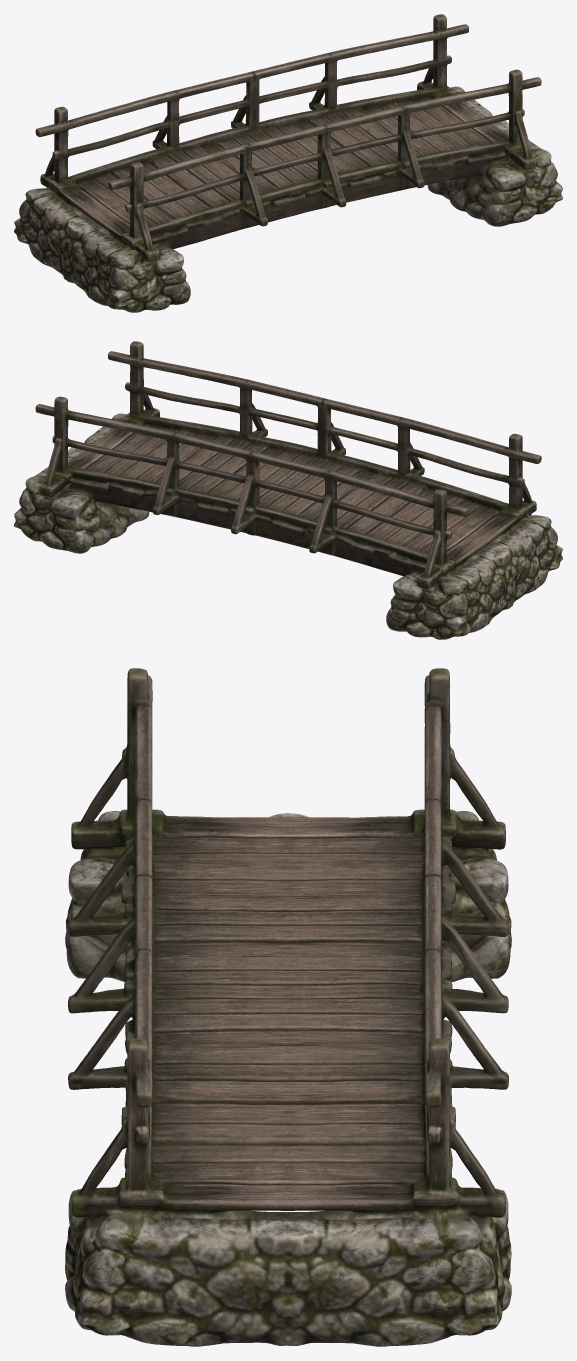
The model's file is prop01.glb.
3 views of the same model, one above another, from view 1: azimuth 30°, elevation 25°; view 2: azimuth 150°, elevation 25°; view 3: azimuth 270°, elevation 25° (orthographic). The views are drawn at different scales.
Visible parts, largest first — view 1: mesh_node; view 2: mesh_node; view 3: mesh_node.
Boxes of the visible parts, x1=… form: mesh_node: x1=14, y1=14, x2=562, y2=312; mesh_node: x1=14, y1=341, x2=562, y2=639; mesh_node: x1=65, y1=668, x2=511, y2=1346.
Bounding box in the file's own units: 1.9 × 0.5533 × 0.8181.
1 material, 1 textured.
